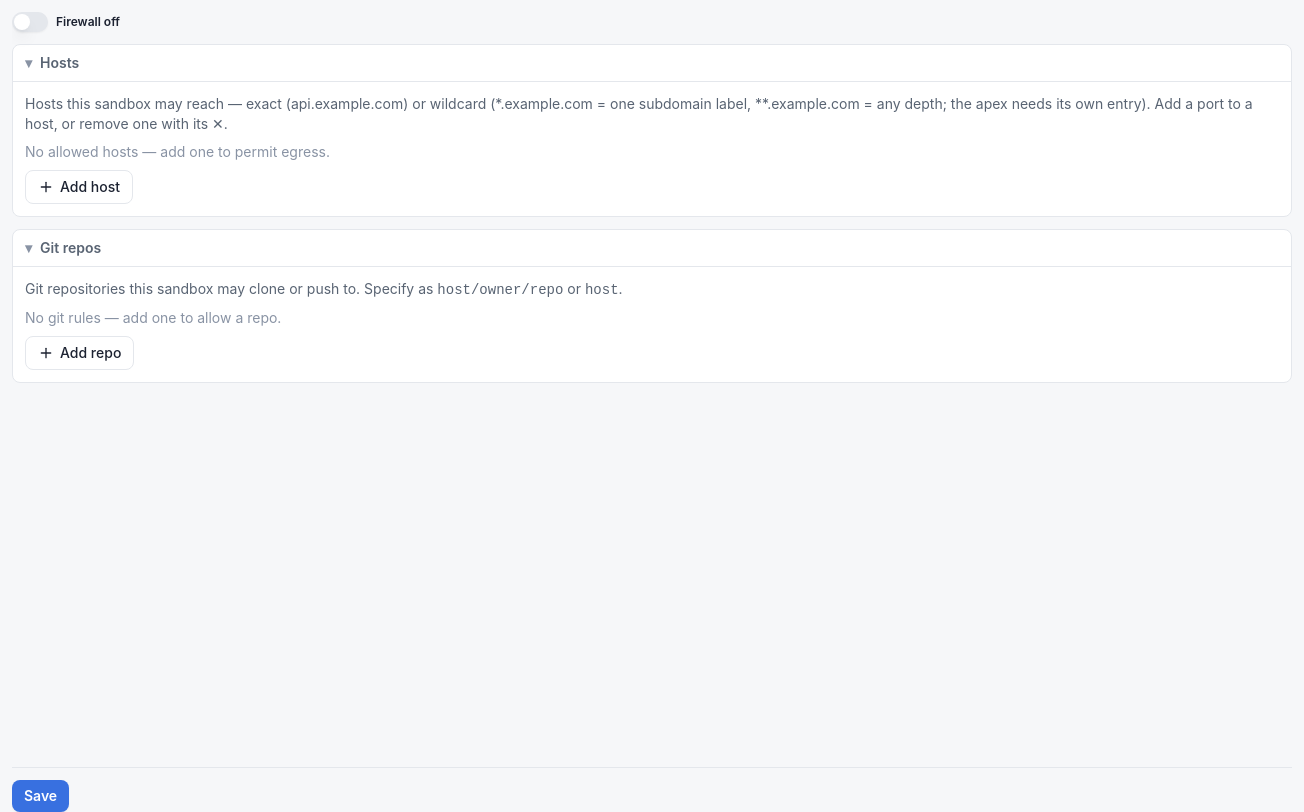
Test: PolicyEditor › git target input is editable even when firewall is off
Click the button "Add repo" at (80, 353), box [25, 336, 134, 370]
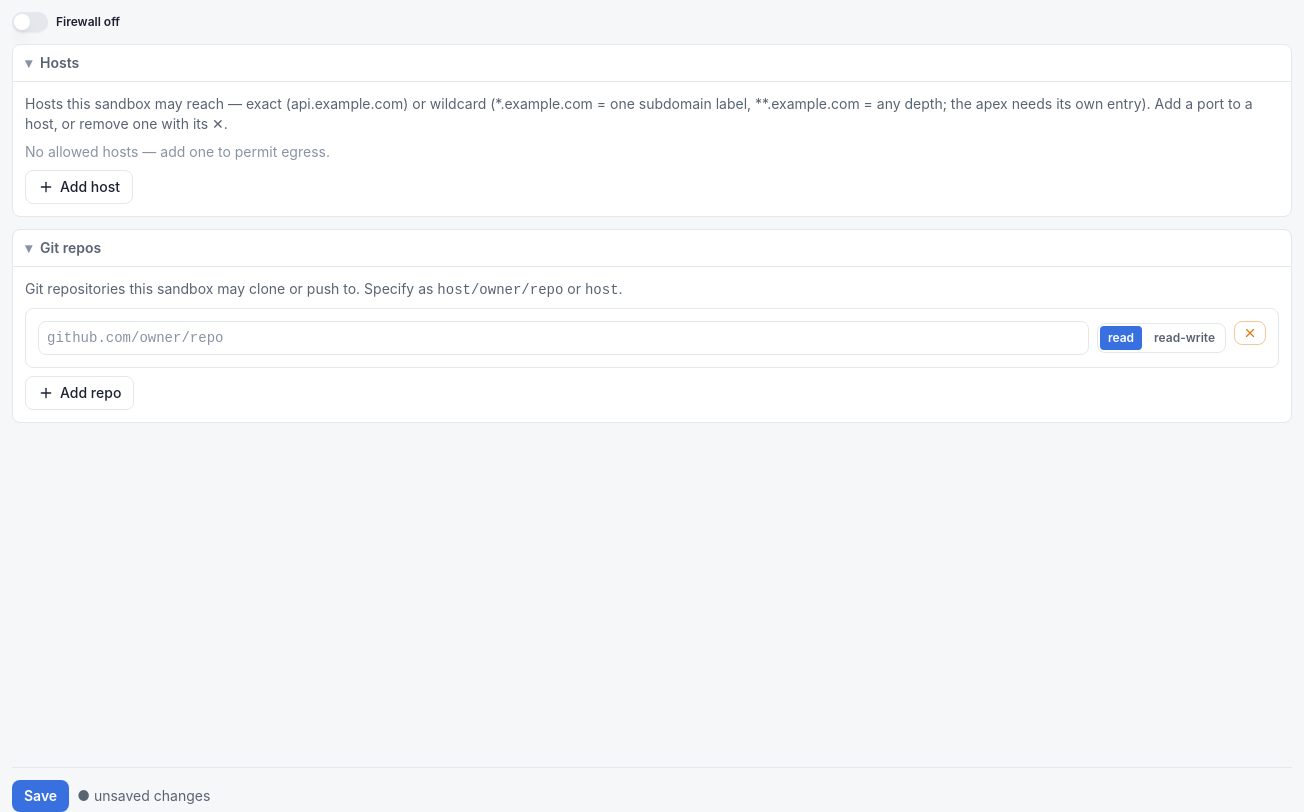
Result: the field named "Repo for git rule 1" is enabled at [38, 321, 1089, 355]
